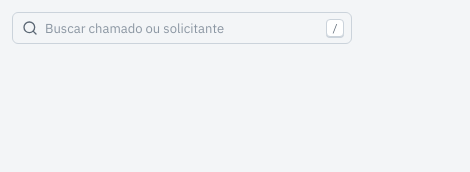
Test: SearchBox › pede ao menos 2 caracteres
Type "m" into the dropdown at (182, 28), box [12,12,352,44]
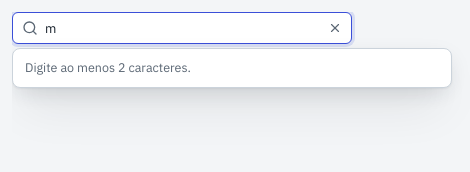
Result: the text "Digite ao menos 2 caracteres." is shown at [25,59,191,75]
